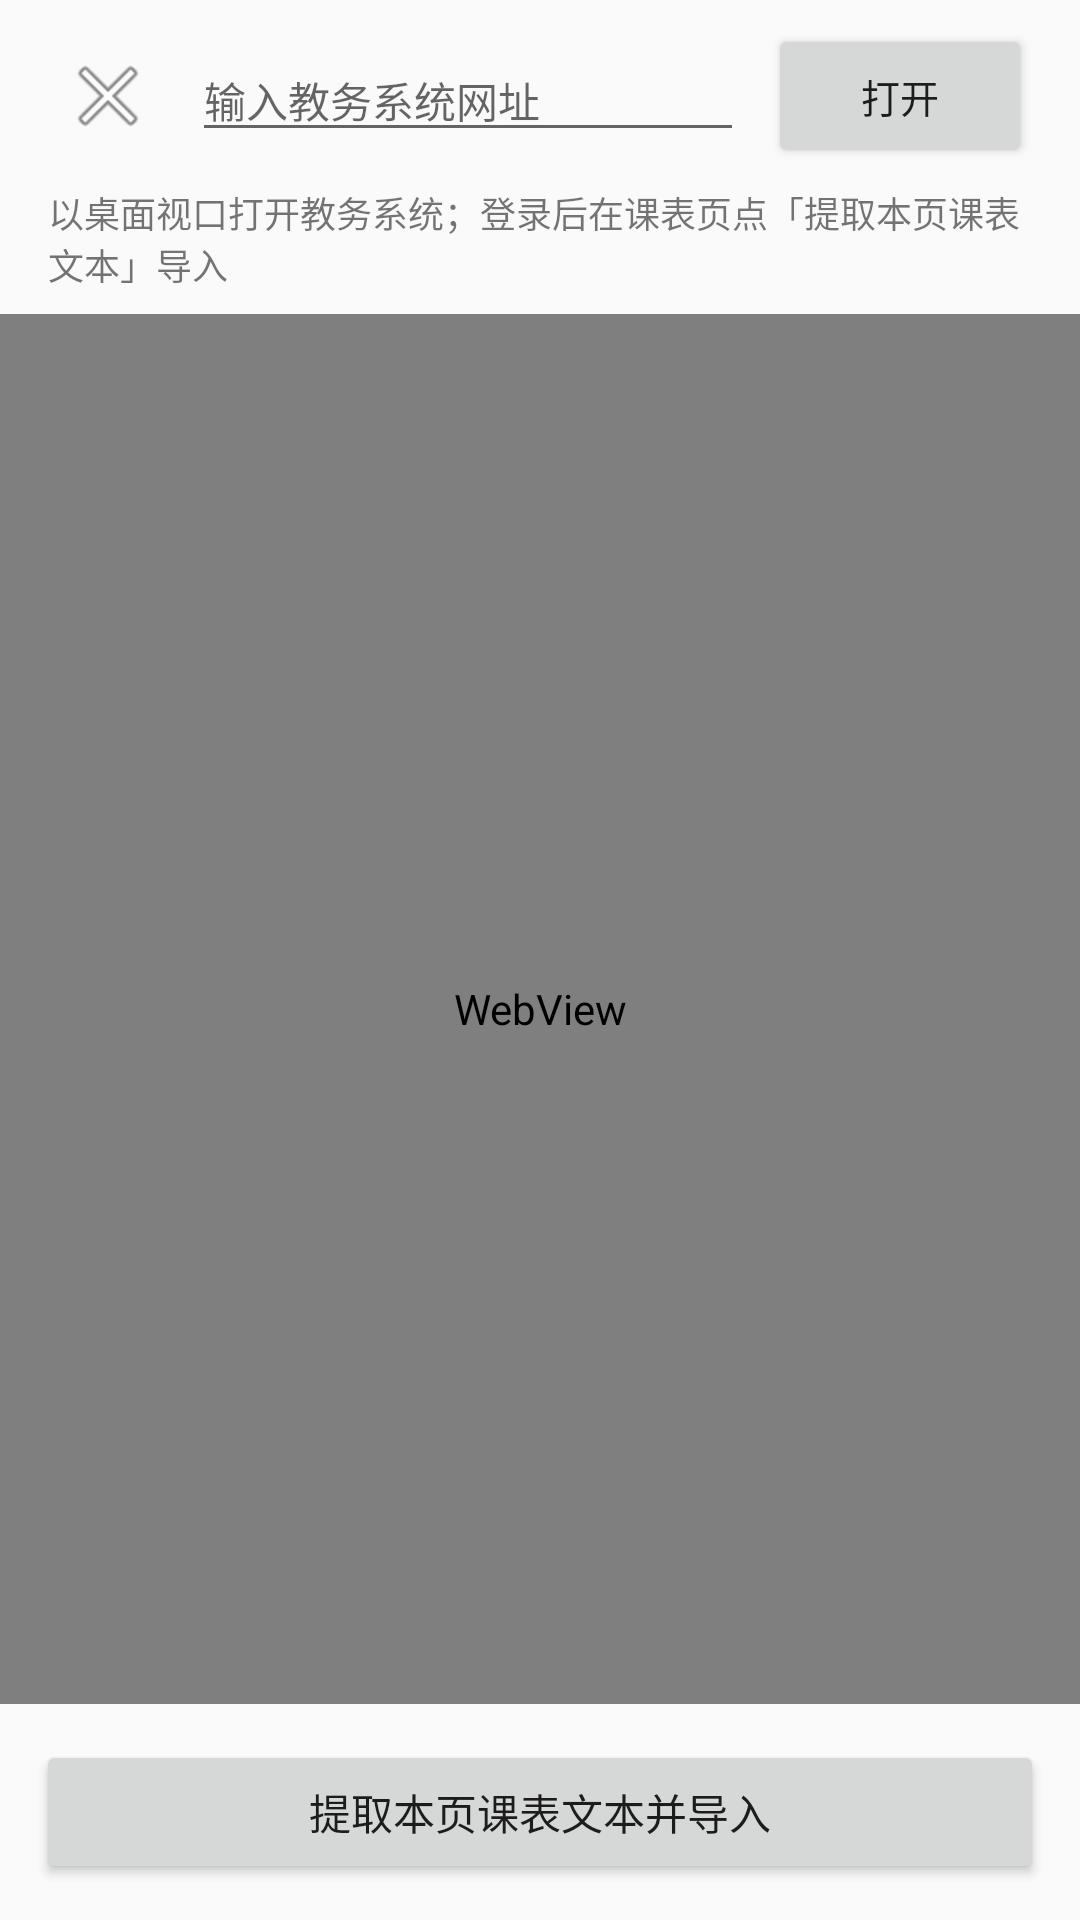

Named icons in this screenshot (1080w x 1920h) and their centers, [x,y]:
返回: [108,96]
